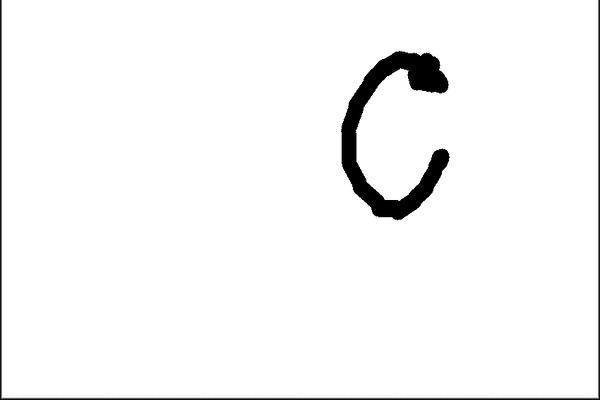C: (336, 42, 458, 224)
